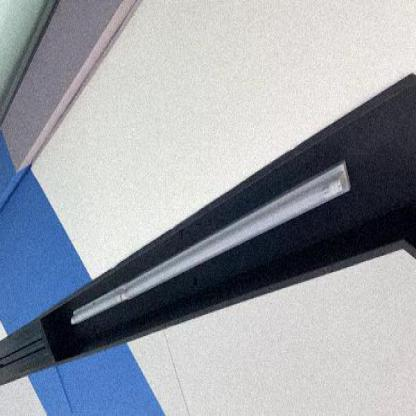light_off: (64, 129, 358, 338)
